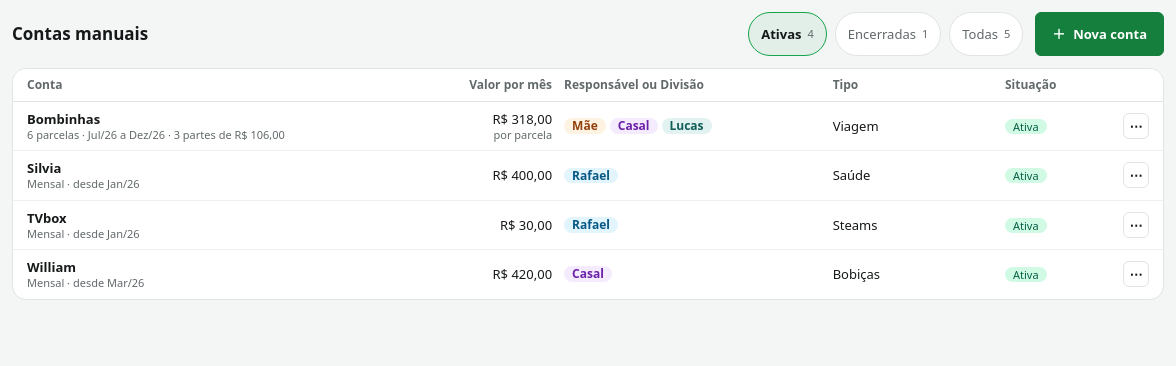
Test: ContasManuais › a lista › a situação aparece em texto (não só em cor) e a Divisão usa a cor de cada Responsável
This screenshot has width=1176, height=366.
Click the button "Todas 5" at (986, 34), box [949,12,1023,56]
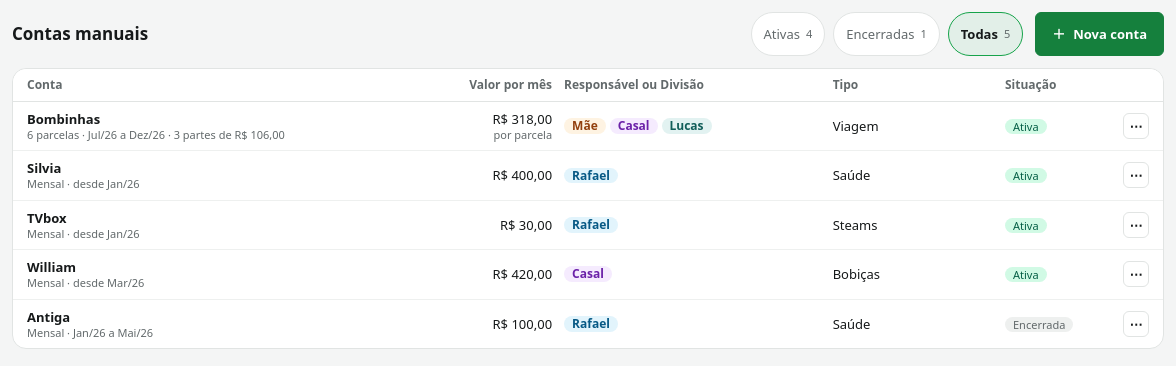
Expected: the cell "Ativa" in the row of "Silvia" is shown, [1013,168,1039,183]
Expected: the cell "Encerrada" is shown, [1005,317,1073,332]
